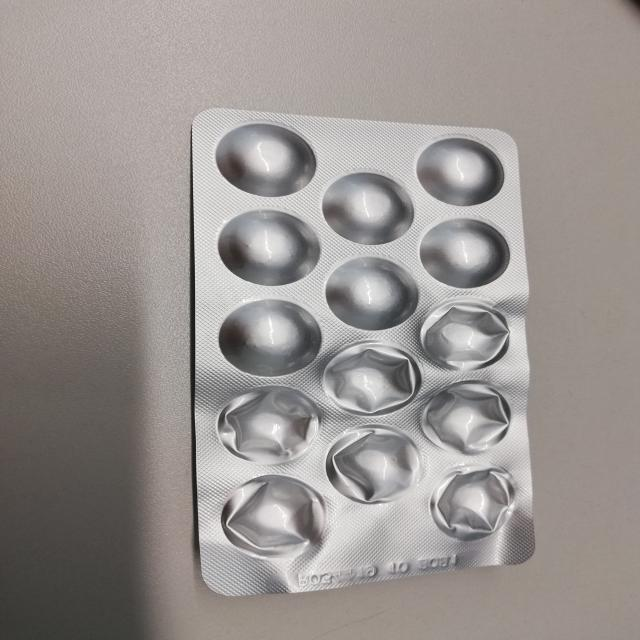Empty: (219, 472, 333, 562), (214, 384, 323, 467), (323, 422, 428, 506), (321, 339, 422, 418), (422, 379, 517, 458), (429, 463, 522, 543), (419, 298, 513, 373)
Pill: (214, 297, 320, 380), (212, 207, 320, 287), (211, 119, 318, 198), (322, 170, 416, 247), (324, 256, 417, 332), (417, 217, 512, 290), (415, 134, 508, 206)
